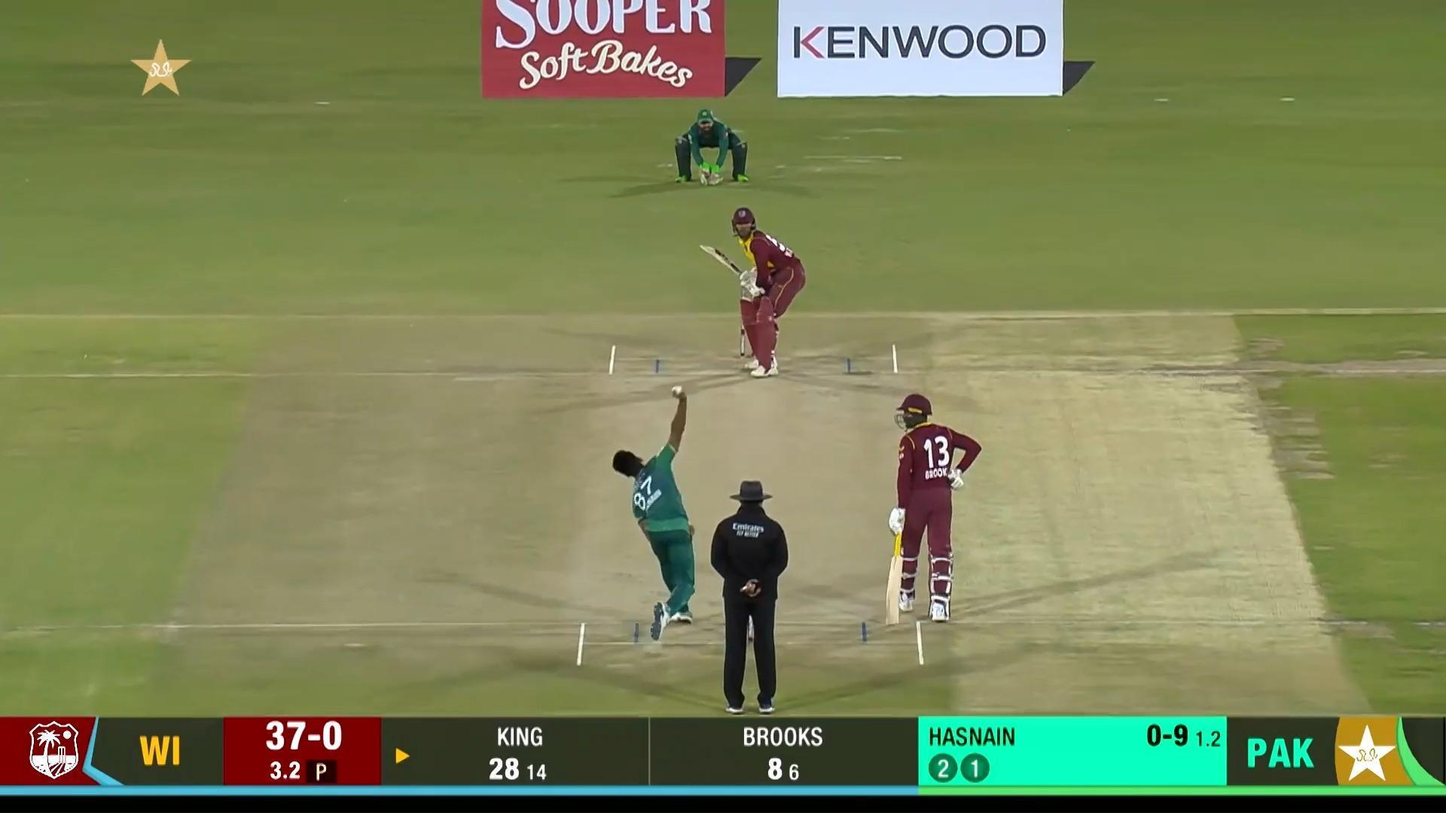BM 1: (700, 207, 807, 378)
BO: (612, 384, 697, 642)
